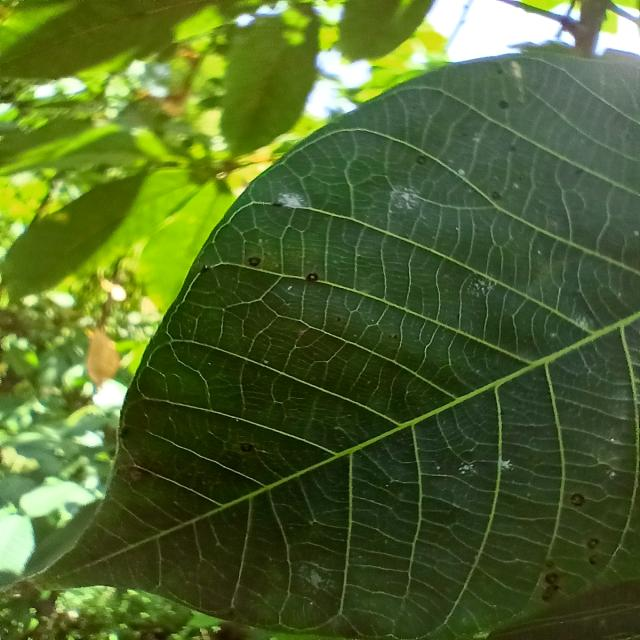Colletotrichum: (572, 493, 584, 507), (544, 572, 558, 584), (239, 442, 254, 453), (587, 538, 599, 550), (248, 257, 260, 267), (306, 273, 318, 282)
